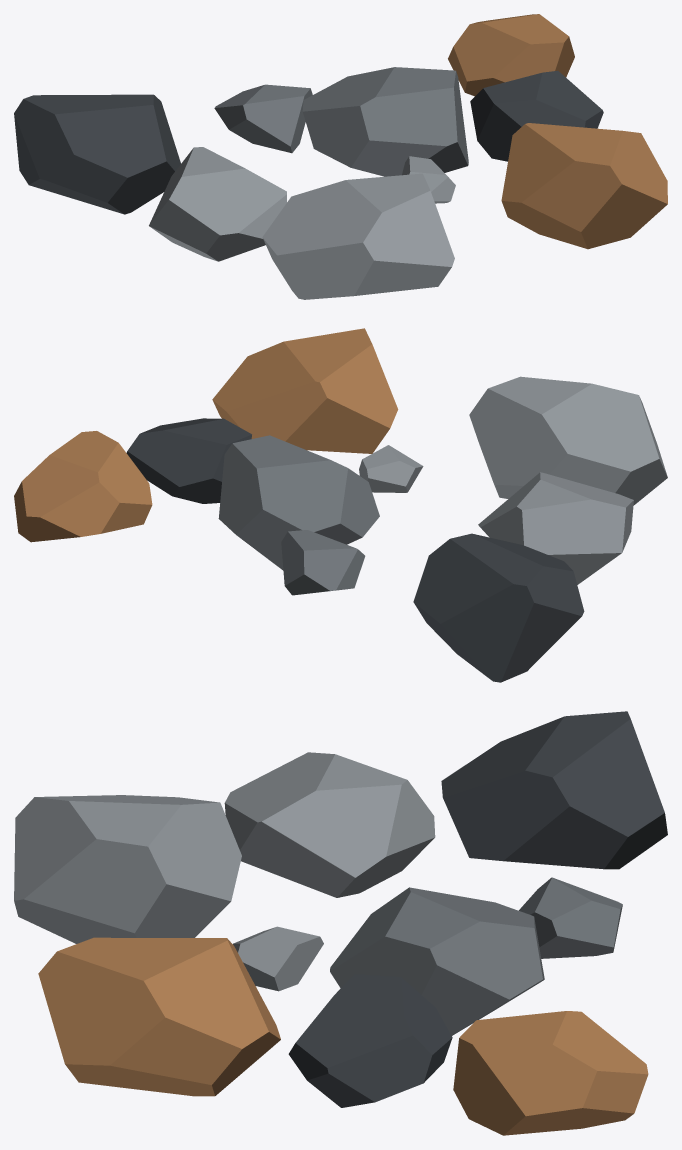
File: mdvl_nature_pebbles_01.glb
3 renders of one model, top to bottom at view 1: azimuth 30°, elevation 25°; view 2: azimuth 150°, elevation 25°; view 3: azimuth 270°, elevation 25°, orthographic. The views are drawn at different scales.
Visible parts, largest first — view 1: mdvl_nature_pebbles_01; view 2: mdvl_nature_pebbles_01; view 3: mdvl_nature_pebbles_01.
Part boxes in pixels (x1,y1,x2,y2): mdvl_nature_pebbles_01: [14, 14, 667, 299]; mdvl_nature_pebbles_01: [14, 328, 667, 682]; mdvl_nature_pebbles_01: [14, 711, 667, 1135].
Bounding box in the file's own units: 1.05 × 0.169 × 0.8457.
Materials: 1 (1 with a texture image).
